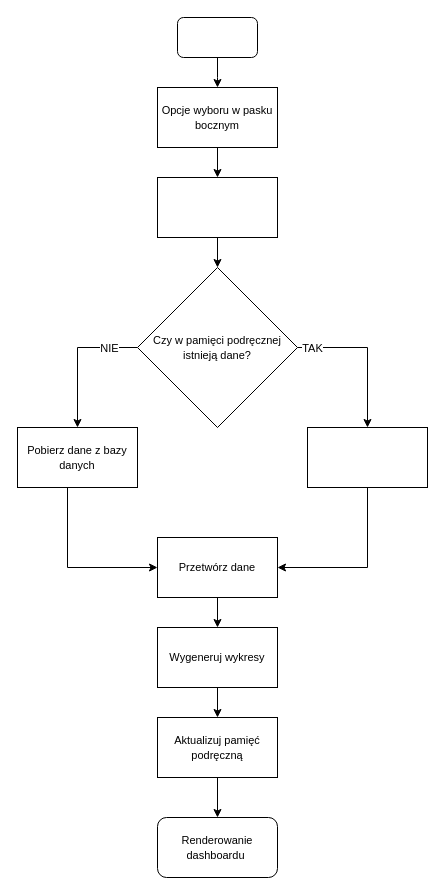
The diagram is 445 pixels wide and 895 high, and some of its shapes have lost their labels. The shapes that lost their labels are listed below. From the top down, each one's centre as x and y in pixels, then its label:
At (217,37): "Użytkownik".
At (217,207): "Wybór modułu analizy".
At (367,457): "Wyświetl dane z pamięci podręcznej".
